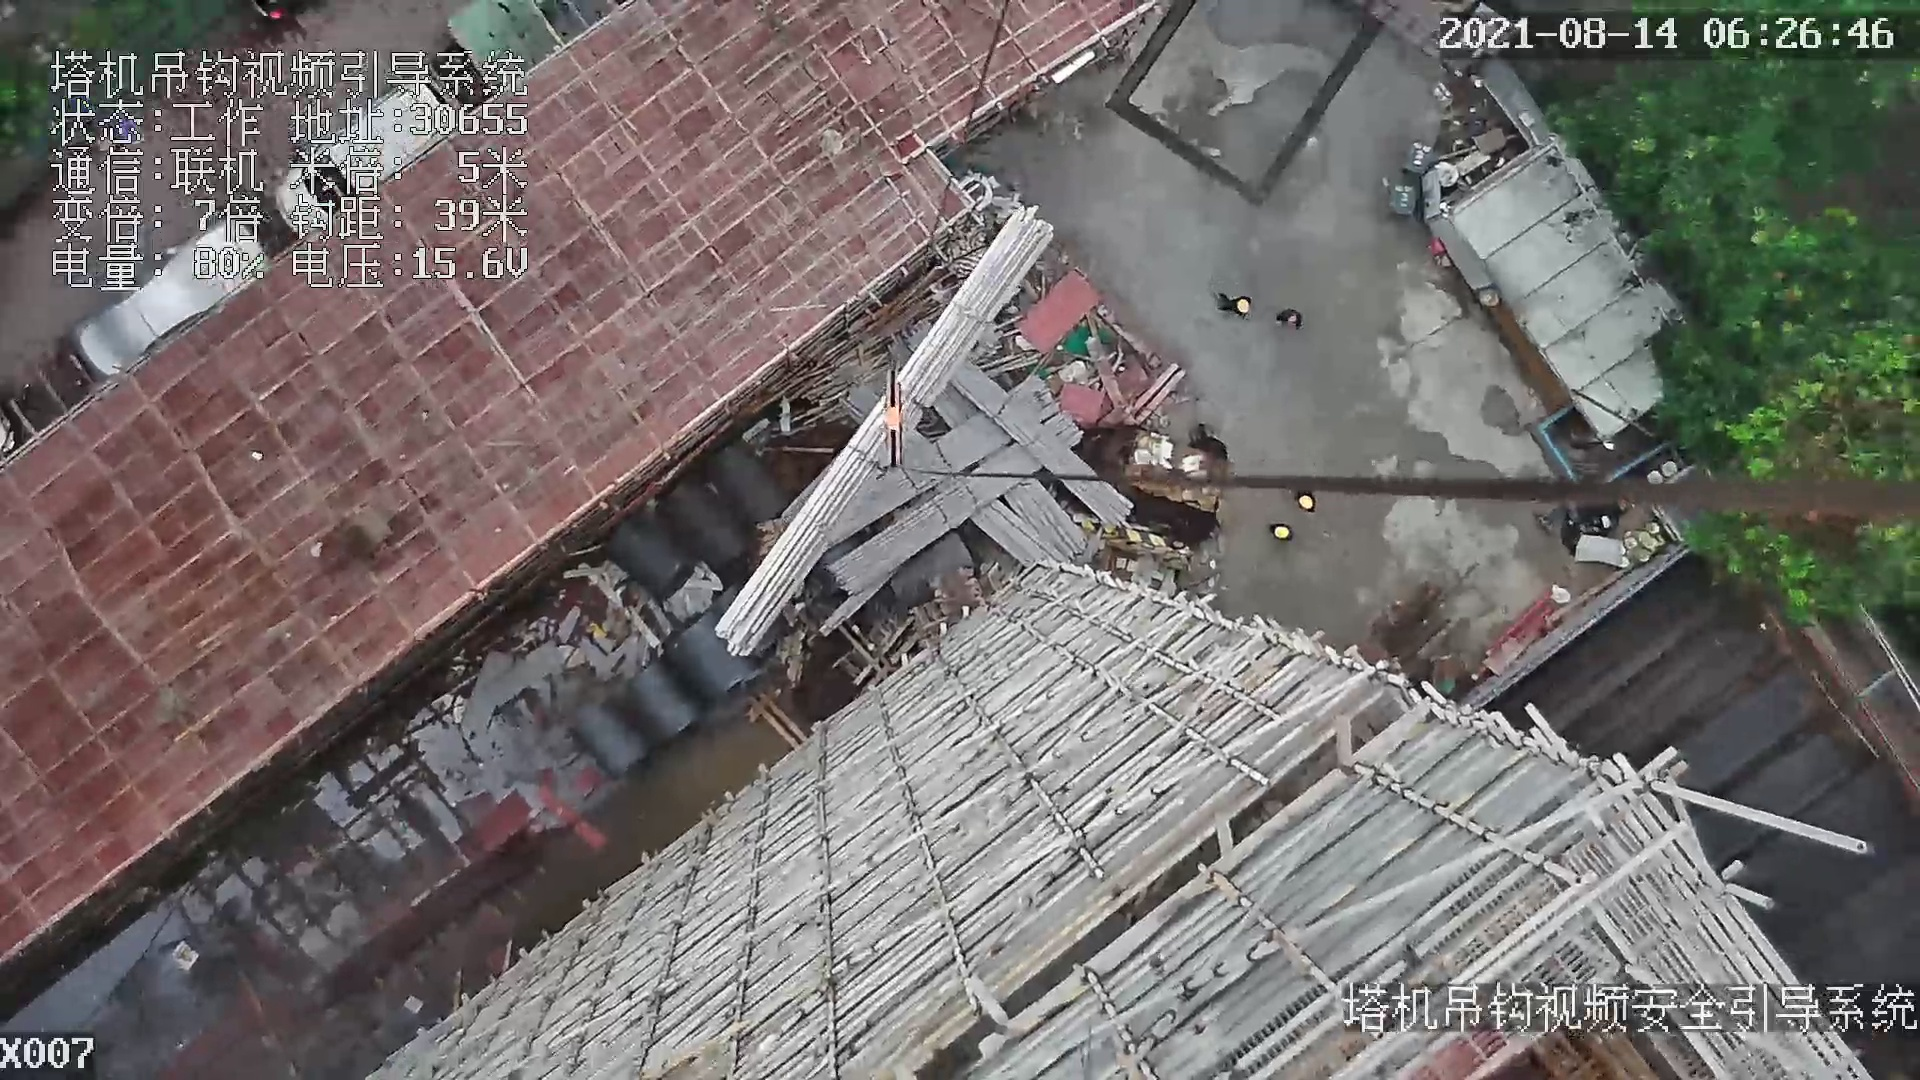helmet: (1298, 494, 1315, 510), (1273, 525, 1291, 539), (1234, 297, 1250, 312)
person: (1215, 285, 1254, 315), (1278, 300, 1308, 331), (1270, 517, 1299, 544), (1297, 490, 1323, 513)
